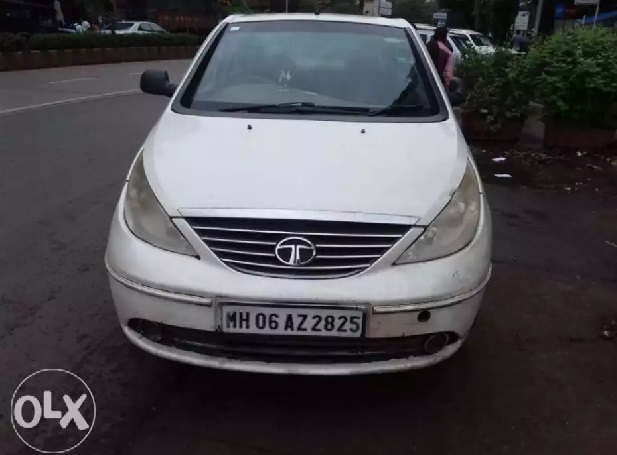licenseplate: (217, 298, 369, 339)
